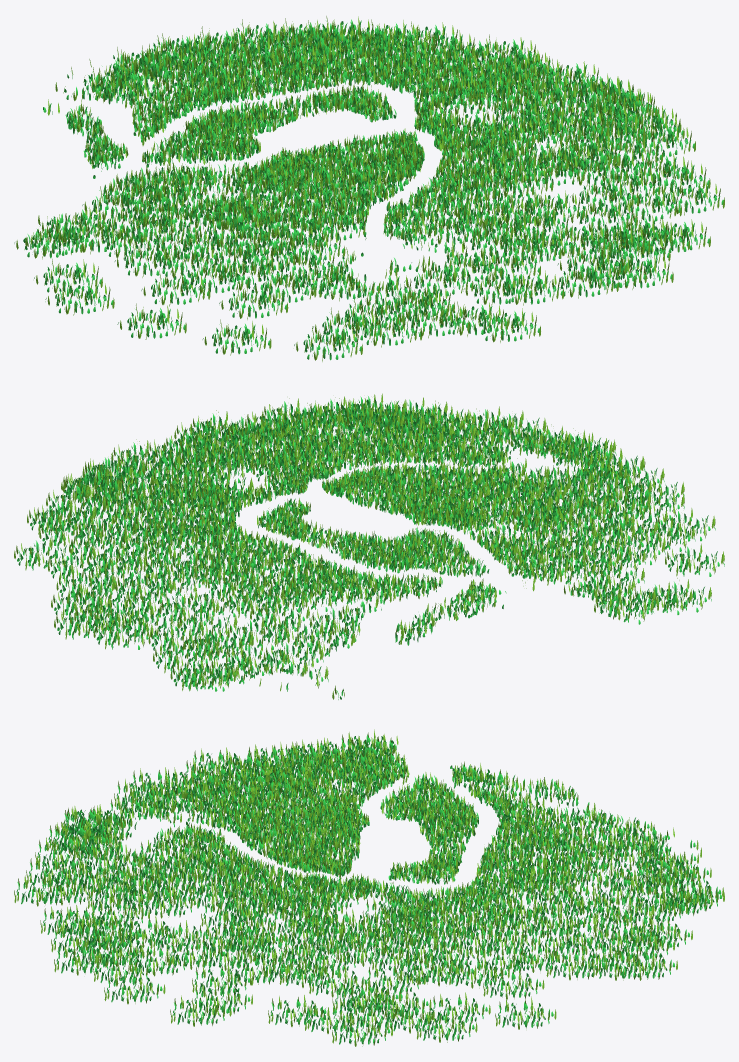
Rendered from grass.fbx.
The picture shows the model from 3 angles, top to bottom: view 1: azimuth 30°, elevation 25°; view 2: azimuth 150°, elevation 25°; view 3: azimuth 270°, elevation 25°; orthographic projection. The views are drawn at different scales.
Visible parts, largest first — view 1: Plane.283; view 2: Plane.283; view 3: Plane.283.
Part boxes in pixels (box(x1,y1,x2,y2)): Plane.283: box(14, 16, 724, 361); Plane.283: box(14, 393, 724, 699); Plane.283: box(14, 729, 724, 1046).
Size of the model in its own units: 3091 by 290 by 3140.
